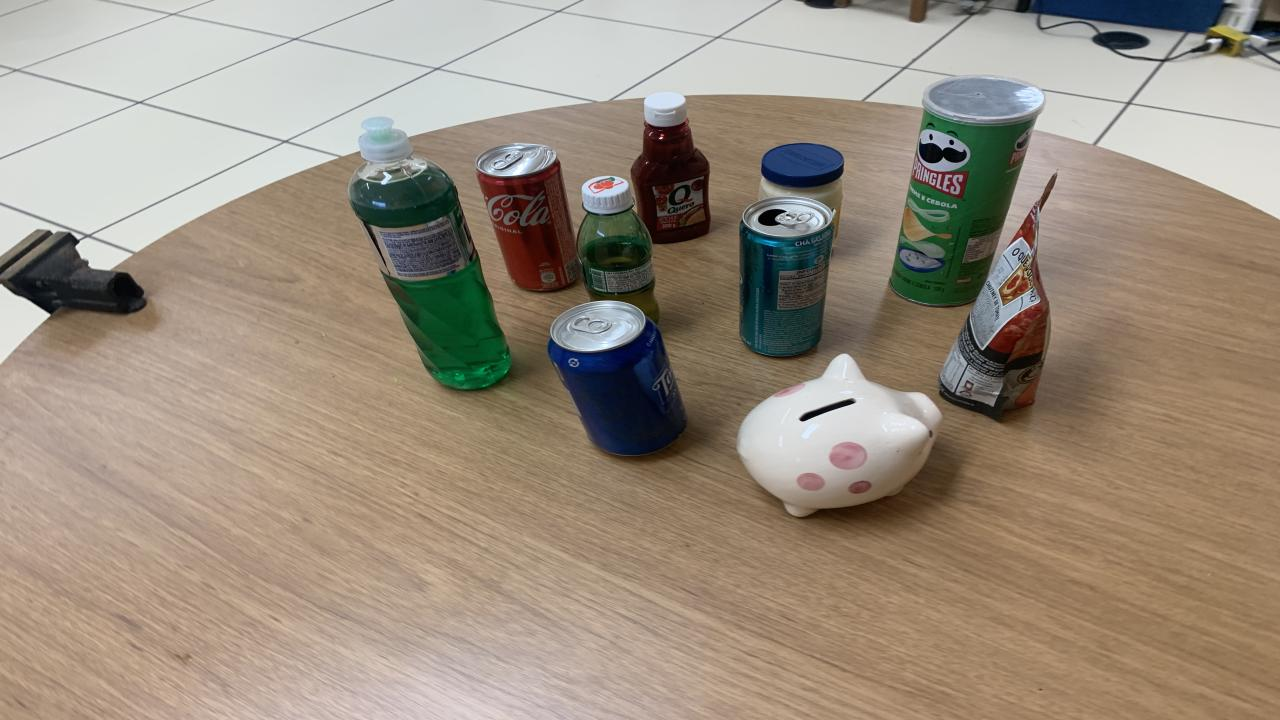Coke-Drinks: (475, 142, 580, 291)
Detergent-Cleanup_Items: (348, 116, 510, 390)
Guarana-Drinks: (578, 174, 660, 322)
Ketchup-Pantry_Items: (630, 92, 710, 244)
Mayonnaise-Pantry_Items: (758, 142, 845, 244)
Pig_Safe-Miscellaneous: (738, 354, 942, 518)
Pringles-Snacks: (890, 75, 1045, 306)
Tea-Drinks: (740, 197, 832, 356)
Tomato_Sauce-Pantry_Items: (940, 174, 1058, 418)
Tonic-Drinks: (548, 300, 688, 456)
